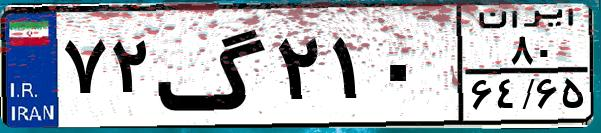0: (385, 28, 445, 110), (537, 27, 568, 80)
1: (330, 28, 385, 110)
2: (270, 28, 330, 110), (110, 28, 156, 98)
4: (495, 70, 520, 125)
5: (560, 70, 590, 125)
6: (470, 70, 495, 125), (535, 70, 560, 125)
7: (57, 26, 110, 100)
8: (508, 27, 537, 80)
گ: (156, 12, 270, 120)
